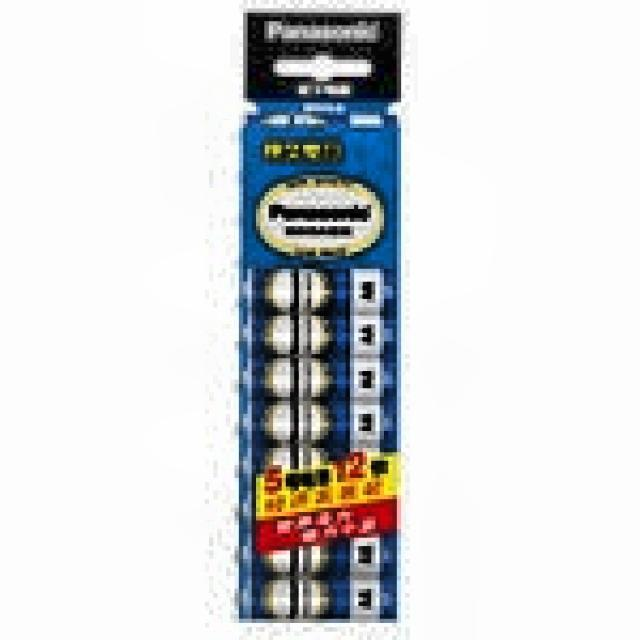battery: (243, 266, 397, 618)
